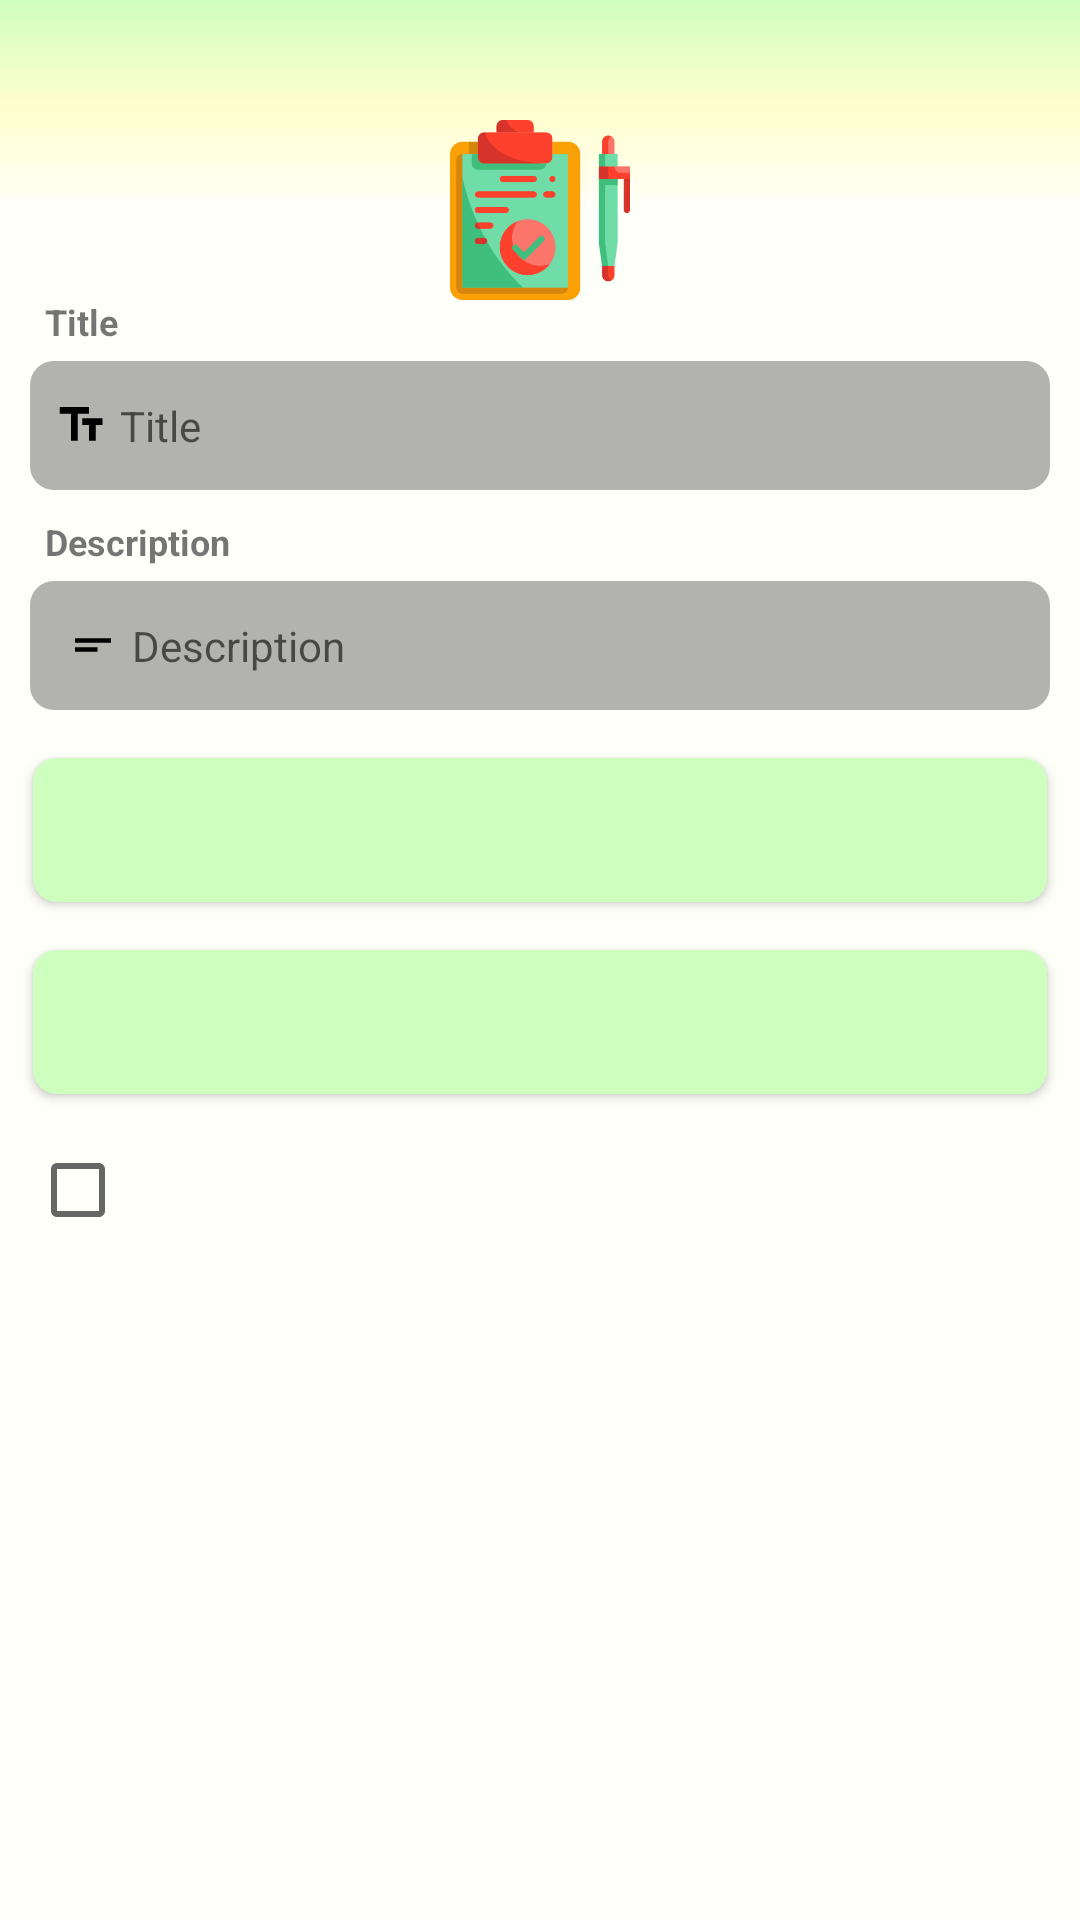

Named icons in this screenshot (1080 × 1920) and their bounding boxes, {"x1": x1, "y1": y1, "x2": x2, "y2": y2}:
Task edit image: {"x1": 450, "y1": 120, "x2": 630, "y2": 300}
